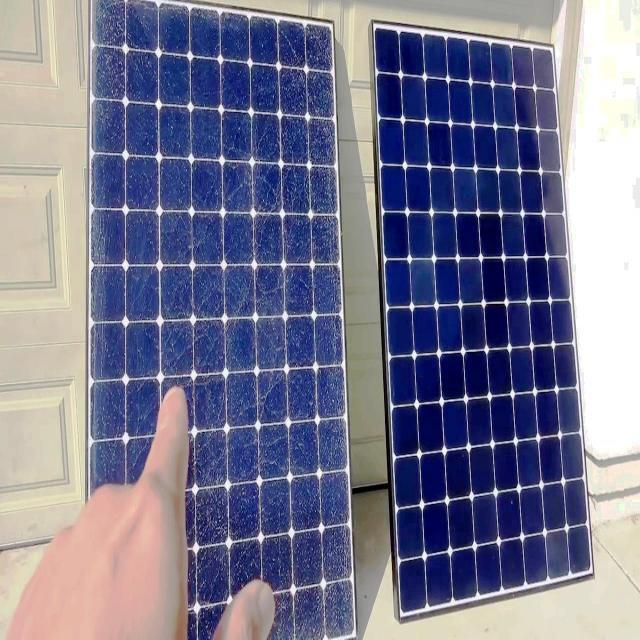faulty: (88, 3, 354, 632)
no faulty: (370, 20, 598, 617)
